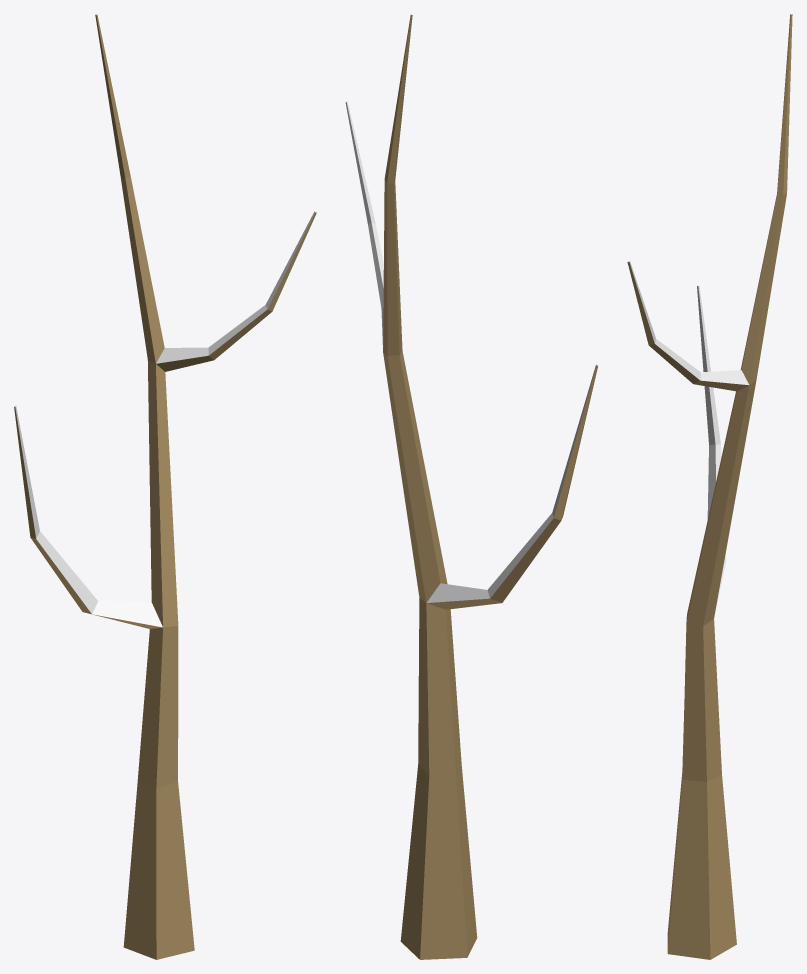
File: Random_Tree_NoLeaves_m_Snow_BT_04.fbx
The picture shows the model from 3 angles, left to right: view 1: azimuth 30°, elevation 25°; view 2: azimuth 150°, elevation 25°; view 3: azimuth 270°, elevation 25°; orthographic projection. The views are drawn at different scales.
Visible parts, largest first — view 1: Random_Tree_NoLeaves_m_Snow_BT_04; view 2: Random_Tree_NoLeaves_m_Snow_BT_04; view 3: Random_Tree_NoLeaves_m_Snow_BT_04.
Part boxes in pixels (<box>): Random_Tree_NoLeaves_m_Snow_BT_04: <box>14,14,316,959</box>; Random_Tree_NoLeaves_m_Snow_BT_04: <box>345,14,598,959</box>; Random_Tree_NoLeaves_m_Snow_BT_04: <box>627,14,792,959</box>.
Size of the model in its own units: 297 by 954 by 155.
